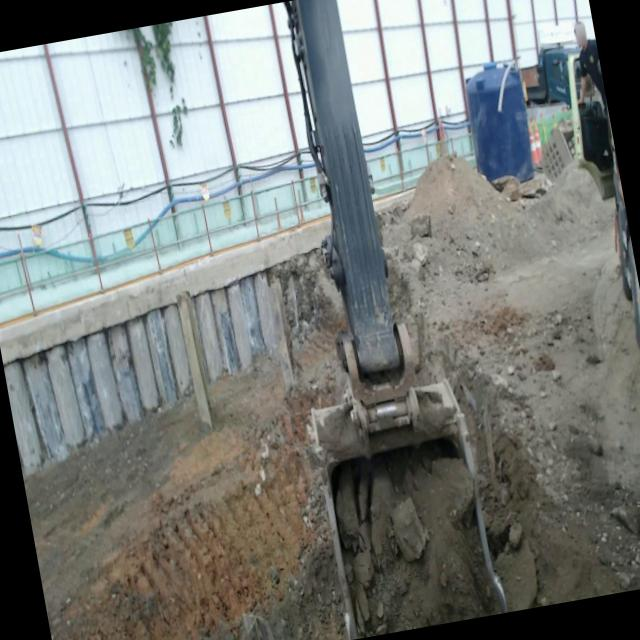white-sand: (23, 248, 346, 640), (375, 155, 640, 612), (331, 439, 502, 638)
